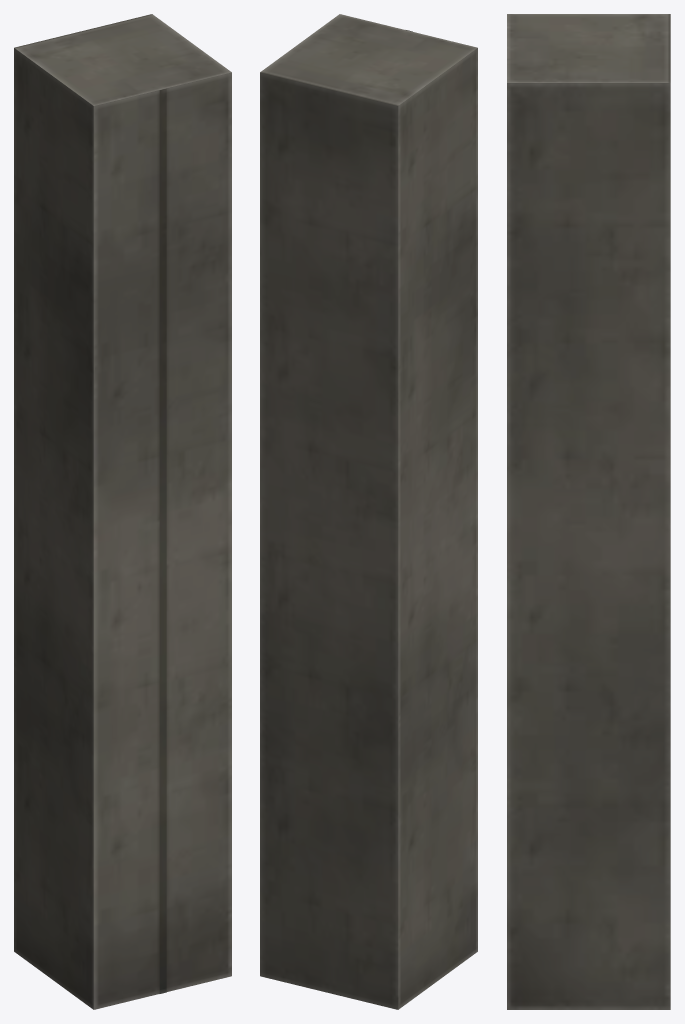
File: column.glb
3 renders of one model, left to right at view 1: azimuth 30°, elevation 25°; view 2: azimuth 150°, elevation 25°; view 3: azimuth 270°, elevation 25°, orthographic. The views are drawn at different scales.
Visible parts, largest first — view 1: te_retaining_column; view 2: te_retaining_column; view 3: te_retaining_column.
Part boxes in pixels (left/top/right/bottom): te_retaining_column: left=14, top=14, right=231, bottom=1009; te_retaining_column: left=260, top=14, right=477, bottom=1009; te_retaining_column: left=507, top=14, right=670, bottom=1009.
Bounding box in the file's own units: 0.16 × 1 × 0.1606.
Materials: 1 (1 with a texture image).
